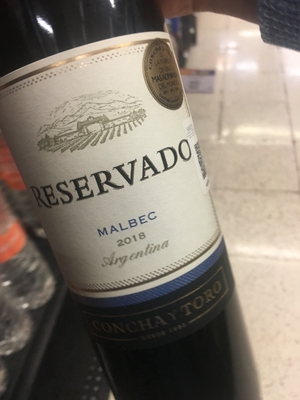reservado malbec: (7, 15, 220, 400)
